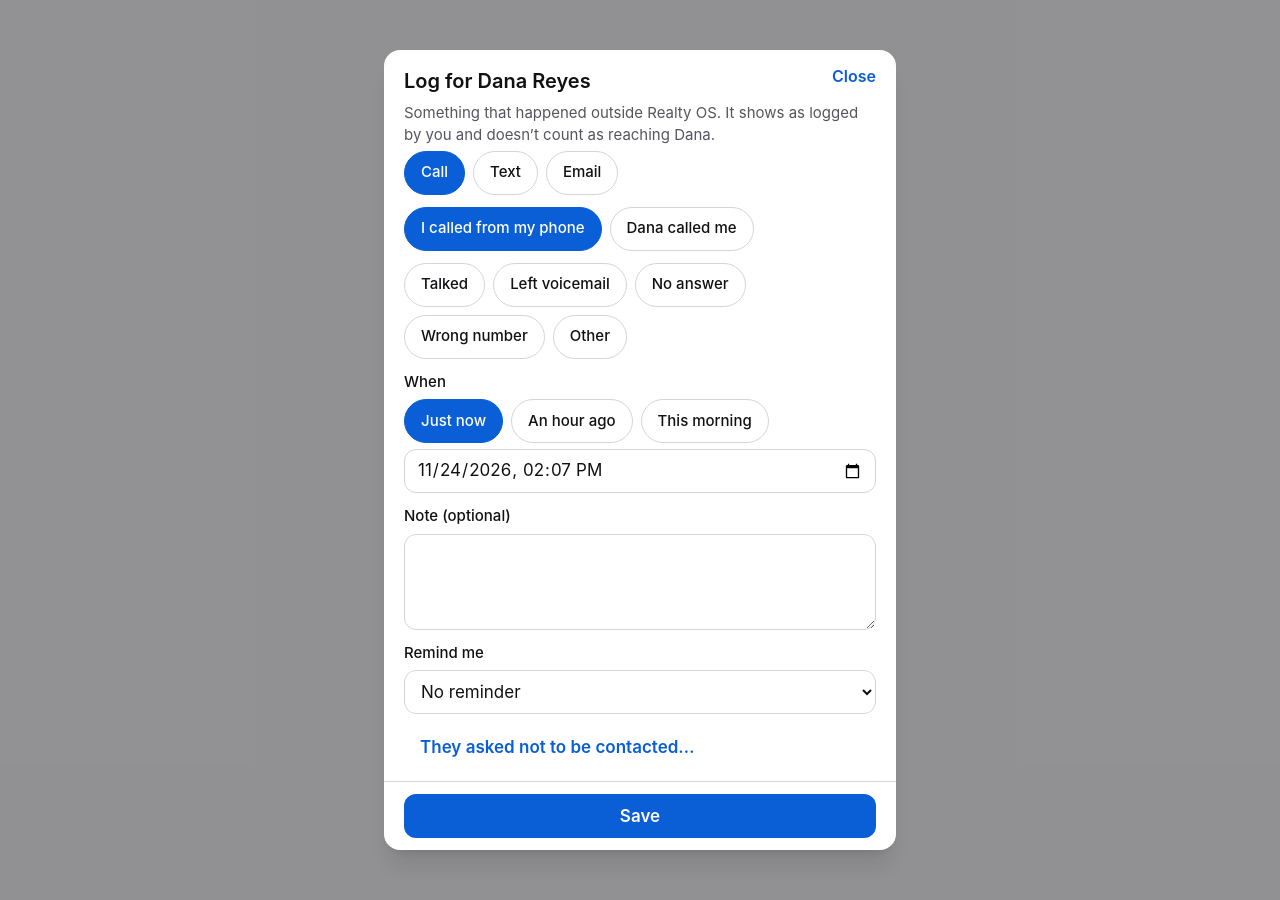
it: M6 (E775): Log → outcome → one button saves the log and confirms the stage › choosing an outcome reveals the stage step in place (same sheet, the suggestion from core's table, preselected); ONE button saves the log and the stage: 2 taps
Expected: the button with test id "log-save" reads "Save", [404,794,876,838]
Expected: the element "Stage" is not shown
Click the button "Left voicemail" at (560, 285), box [493,263,627,307]
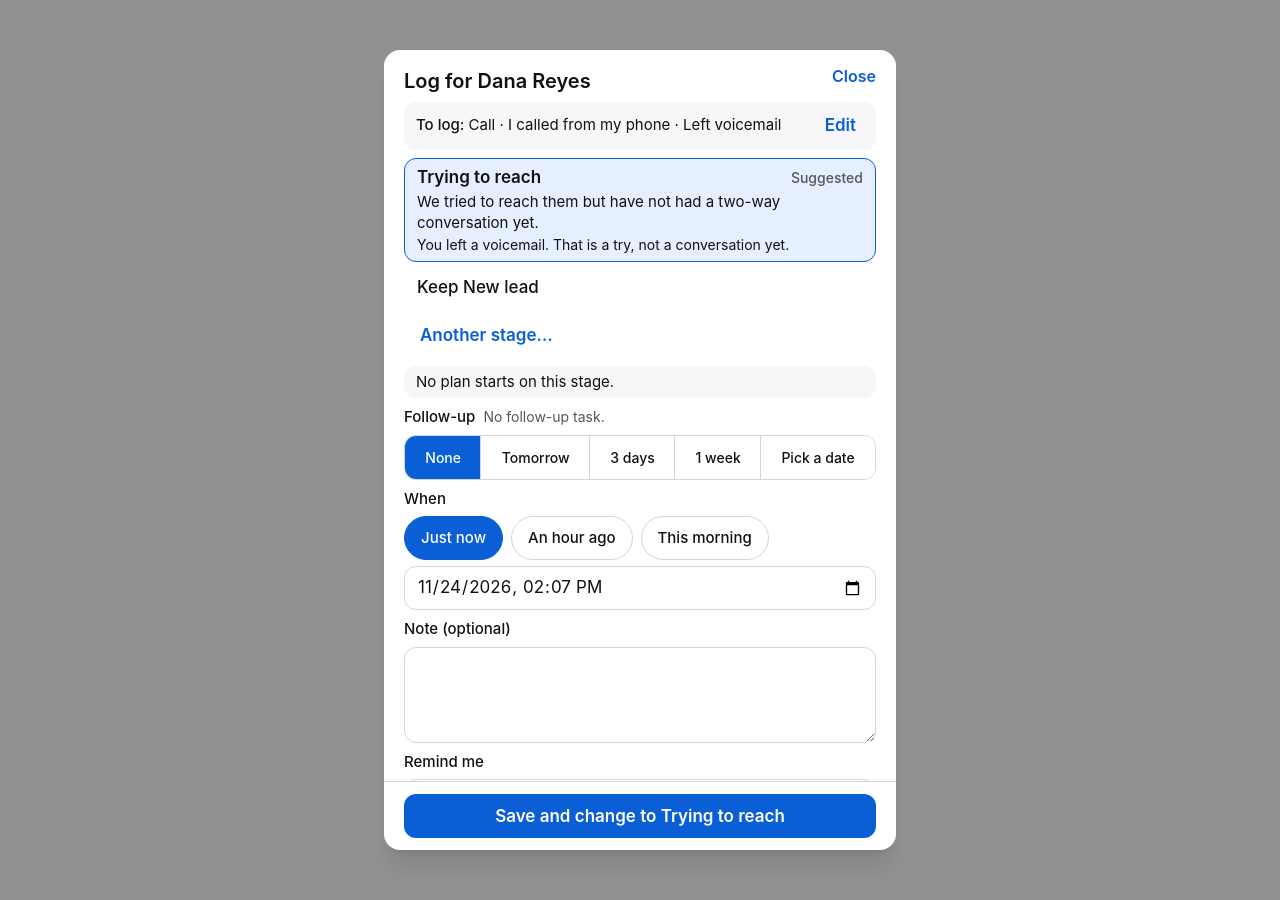
Now the radio button labelled "Trying to reach Suggested" is checked, box [404,158,876,262]
Now the radio button labelled "Keep New lead" is shown, box [404,266,876,310]
Now the element with test id "log-summary" reads "To log: Call · I called from my phone · Left voicemail", box [416,114,801,137]
Click the button with test id "log-save" at (640, 816), box [404,794,876,838]
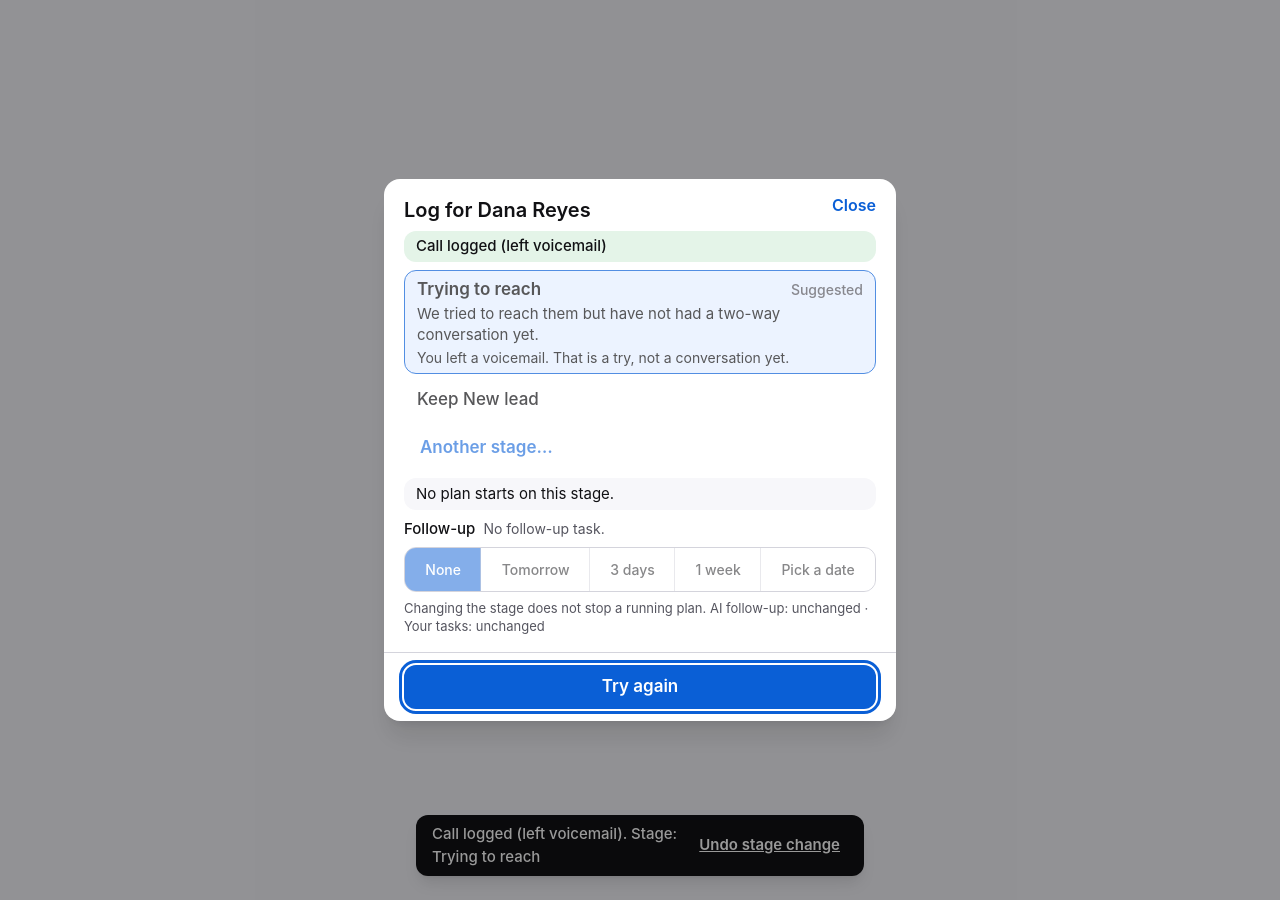
Now the text "Call logged (left voicemail). Stage: Trying to reach" is shown, box [432,823,679,868]
Now the number of elements with test id "people-toast" is 1, box [416,815,864,876]
